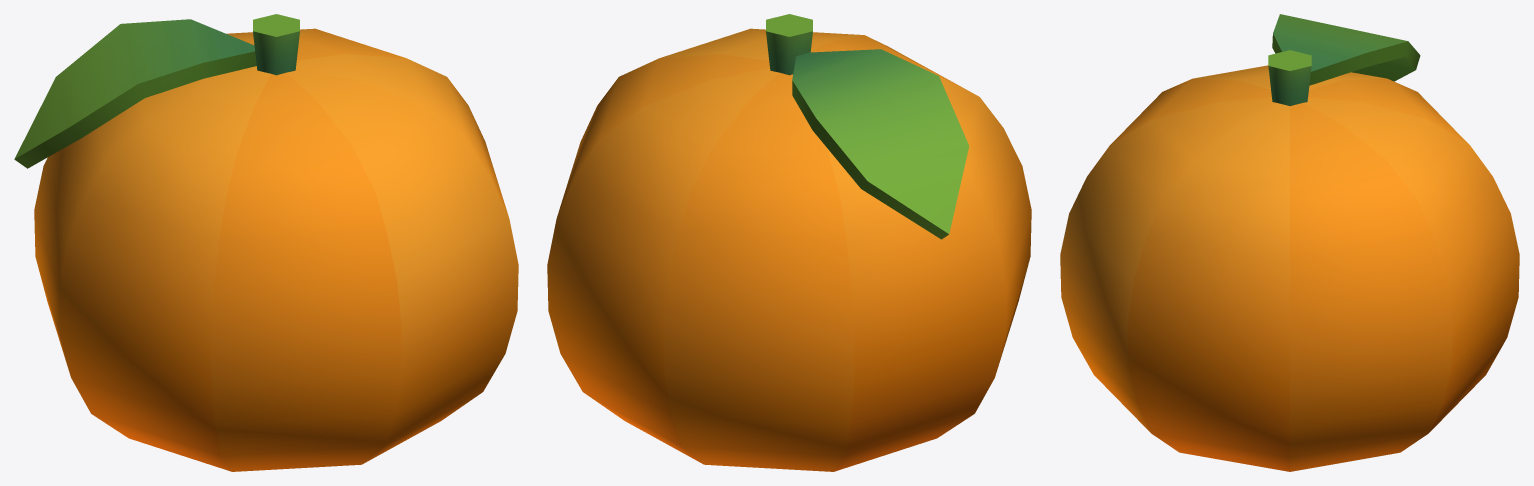
File: Orange_Whole_01.fbx
The picture shows the model from 3 angles, left to right: view 1: azimuth 30°, elevation 25°; view 2: azimuth 150°, elevation 25°; view 3: azimuth 270°, elevation 25°; orthographic projection. The views are drawn at different scales.
Visible parts, largest first — view 1: Orange_Whole_01; view 2: Orange_Whole_01; view 3: Orange_Whole_01.
Part boxes in pixels (x1,y1,x2,y2): Orange_Whole_01: (14, 14, 518, 471); Orange_Whole_01: (547, 14, 1031, 471); Orange_Whole_01: (1060, 14, 1519, 471).
Size of the model in its own units: 0.4473 by 0.3951 by 0.4473.
